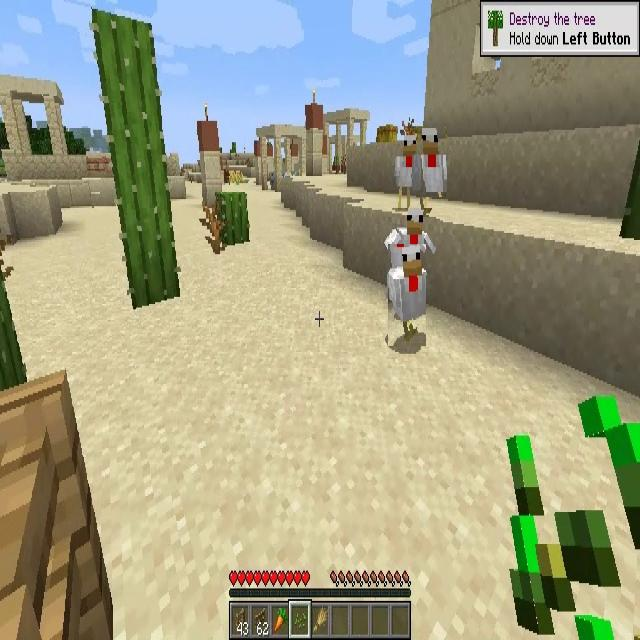duck: (388, 244, 426, 346), (384, 211, 432, 259), (396, 134, 424, 205), (421, 127, 447, 197)
